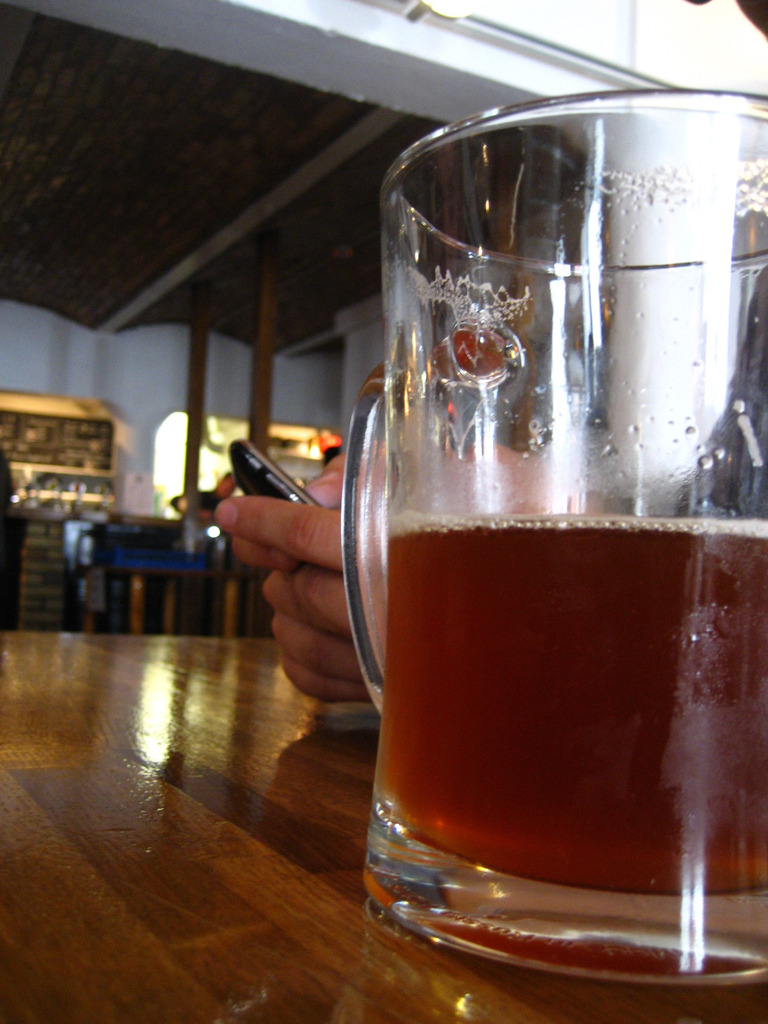Beer: (386, 513, 767, 899)
